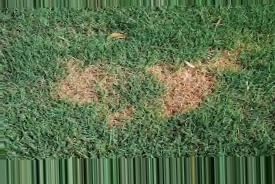patch: (165, 76, 208, 96), (70, 79, 98, 103), (166, 103, 191, 113), (105, 73, 118, 90), (83, 68, 97, 77), (188, 64, 201, 71)
